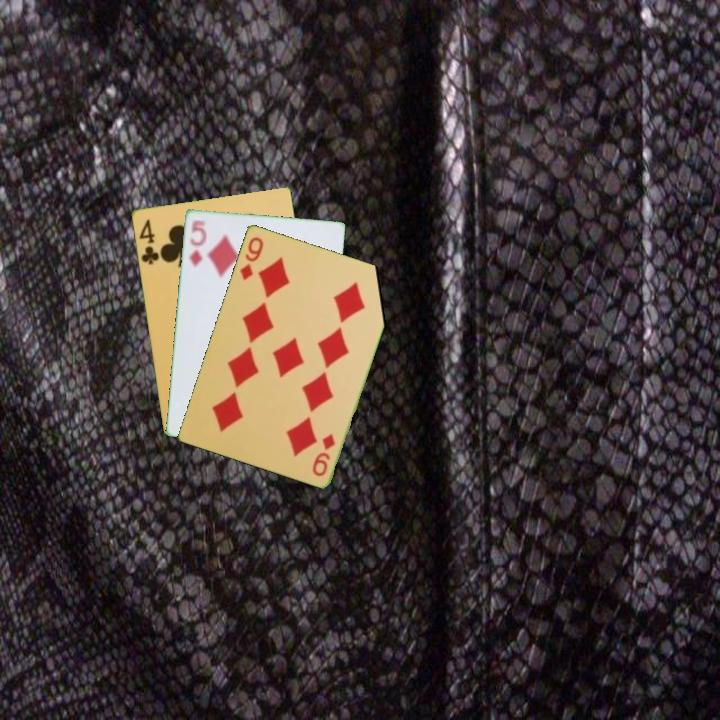4c: (135, 215, 162, 267)
5d: (185, 216, 209, 270)
9d: (236, 233, 266, 283), (308, 430, 338, 479)
